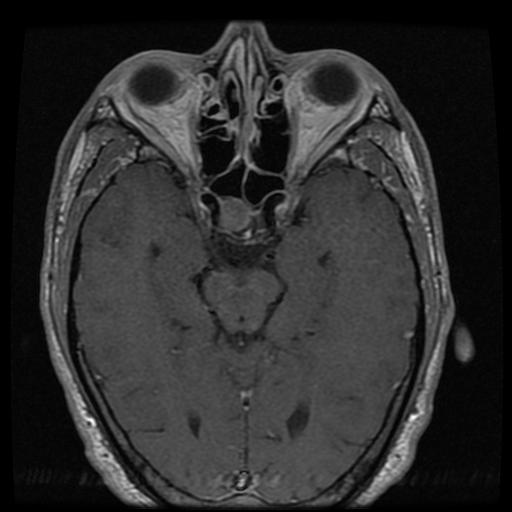Pituirity_tumour: (217, 193, 254, 230)
